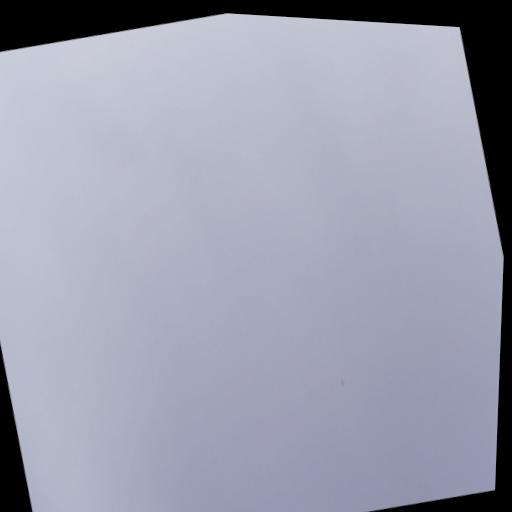drones: (338, 376, 347, 388)
